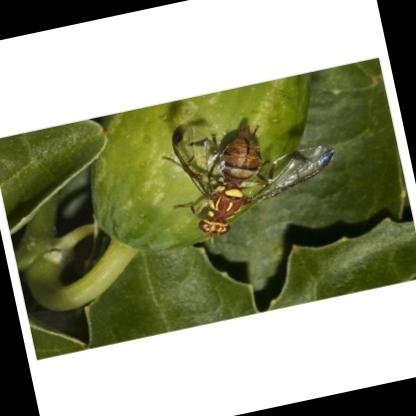fruit fly: (170, 124, 335, 235)
